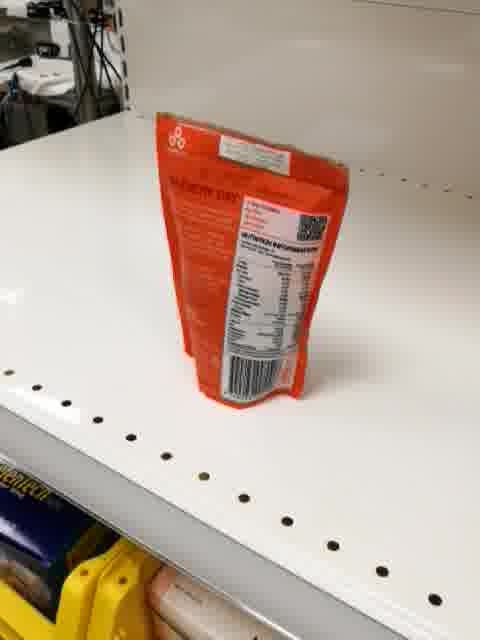whitechia: (152, 107, 349, 414)
